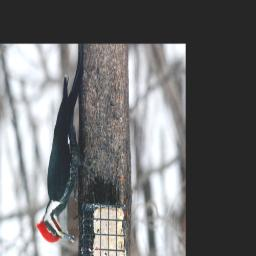Woodpecker: (37, 49, 98, 247)
